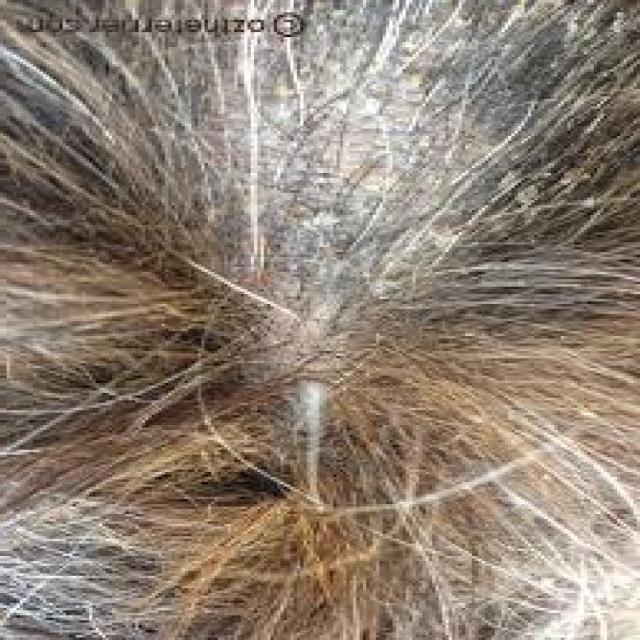allergic dermatitis: (180, 0, 543, 371)
